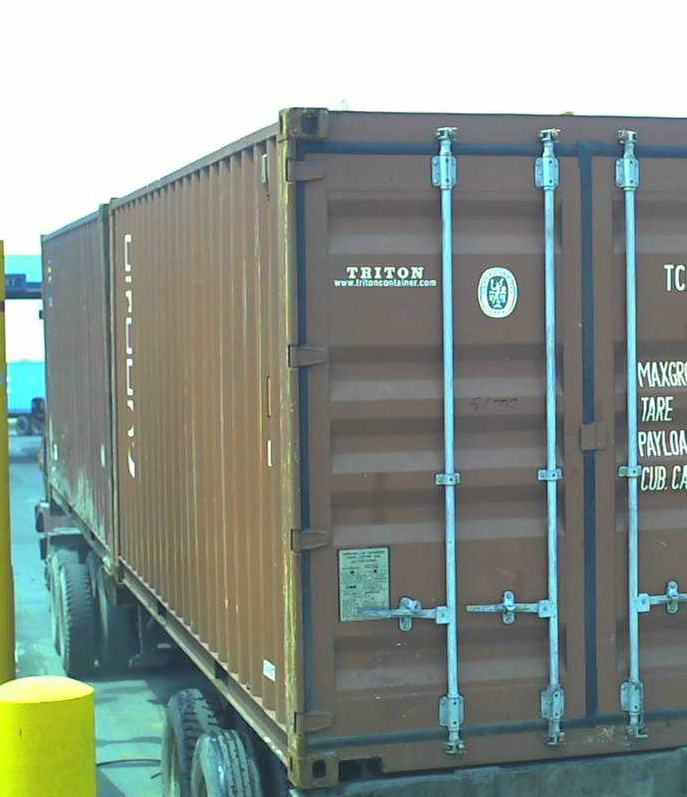container_door: (283, 101, 682, 793)
